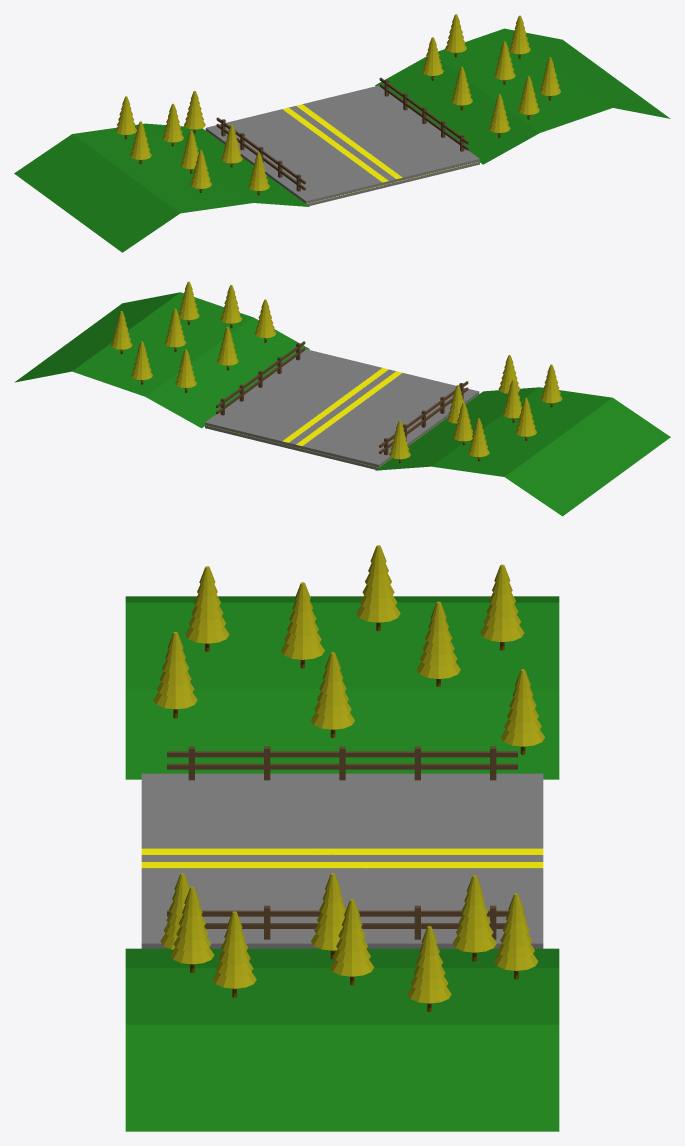
The model's file is Track.fbx.
3 views of the same model, one above another, from view 1: azimuth 30°, elevation 25°; view 2: azimuth 150°, elevation 25°; view 3: azimuth 270°, elevation 25° (orthographic). The views are drawn at different scales.
Visible parts, largest first — view 1: Plane, Cube.009, Cube.017, Cube.014, Cylinder.007, Cylinder.011, Cylinder.008, Cylinder.004, Cylinder.014, Cylinder.003, Cylinder.002, Cylinder.006 (+8 smaller); view 2: Plane, Cube.009, Cube.017, Cube.014, Cylinder.006, Cylinder.003, Cylinder.002, Cylinder.005, Cylinder.012, Cylinder.007, Cylinder.001, Cylinder.015 (+8 smaller); view 3: Plane, Cube.009, Cube.014, Cube.017, Cylinder.013, Cylinder.010, Cylinder.008, Cylinder.006, Cylinder.011, Cylinder.005, Cylinder.000, Cylinder.004 (+8 smaller).
Part boxes in pixels (x1=…): Plane: x1=14, y1=28, x2=670, y2=252; Cube.009: x1=205, y1=85, x2=479, y2=206; Cube.017: x1=379, y1=77, x2=468, y2=151; Cube.014: x1=216, y1=117, x2=305, y2=191; Cylinder.007: x1=488, y1=94, x2=510, y2=137; Cylinder.011: x1=248, y1=152, x2=269, y2=195; Cylinder.008: x1=221, y1=124, x2=242, y2=167; Cylinder.004: x1=445, y1=14, x2=466, y2=57; Cylinder.014: x1=115, y1=96, x2=137, y2=139; Cylinder.003: x1=509, y1=15, x2=530, y2=58; Cylinder.002: x1=451, y1=67, x2=472, y2=110; Cylinder.006: x1=422, y1=37, x2=443, y2=80; Plane: x1=14, y1=292, x2=670, y2=516; Cube.009: x1=205, y1=349, x2=479, y2=470; Cube.017: x1=216, y1=341, x2=305, y2=415; Cube.014: x1=379, y1=381, x2=468, y2=455; Cylinder.006: x1=175, y1=349, x2=196, y2=392; Cylinder.003: x1=110, y1=311, x2=132, y2=354; Cylinder.002: x1=217, y1=327, x2=238, y2=370; Cylinder.005: x1=164, y1=308, x2=186, y2=351; Cylinder.012: x1=540, y1=364, x2=562, y2=407; Cylinder.007: x1=254, y1=299, x2=276, y2=342; Cylinder.001: x1=220, y1=285, x2=241, y2=328; Cylinder.015: x1=515, y1=398, x2=536, y2=440; Plane: x1=125, y1=596, x2=559, y2=1131; Cube.009: x1=141, y1=773, x2=543, y2=948; Cube.014: x1=167, y1=746, x2=517, y2=780; Cube.017: x1=167, y1=905, x2=508, y2=939; Cylinder.013: x1=280, y1=582, x2=324, y2=668; Cylinder.010: x1=501, y1=669, x2=544, y2=755; Cylinder.008: x1=311, y1=652, x2=354, y2=738; Cylinder.006: x1=452, y1=875, x2=496, y2=961; Cylinder.011: x1=153, y1=632, x2=197, y2=718; Cylinder.005: x1=330, y1=899, x2=374, y2=985; Cylinder.000: x1=212, y1=911, x2=256, y2=997; Cylinder.004: x1=494, y1=893, x2=538, y2=979.
Size of the model in its own units: 10092 by 1206 by 3454.
